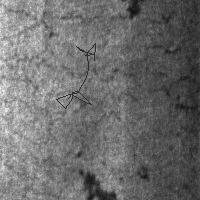crazing: (4, 4, 110, 136), (137, 42, 199, 116), (56, 43, 95, 108), (142, 10, 197, 56), (78, 169, 118, 200)
